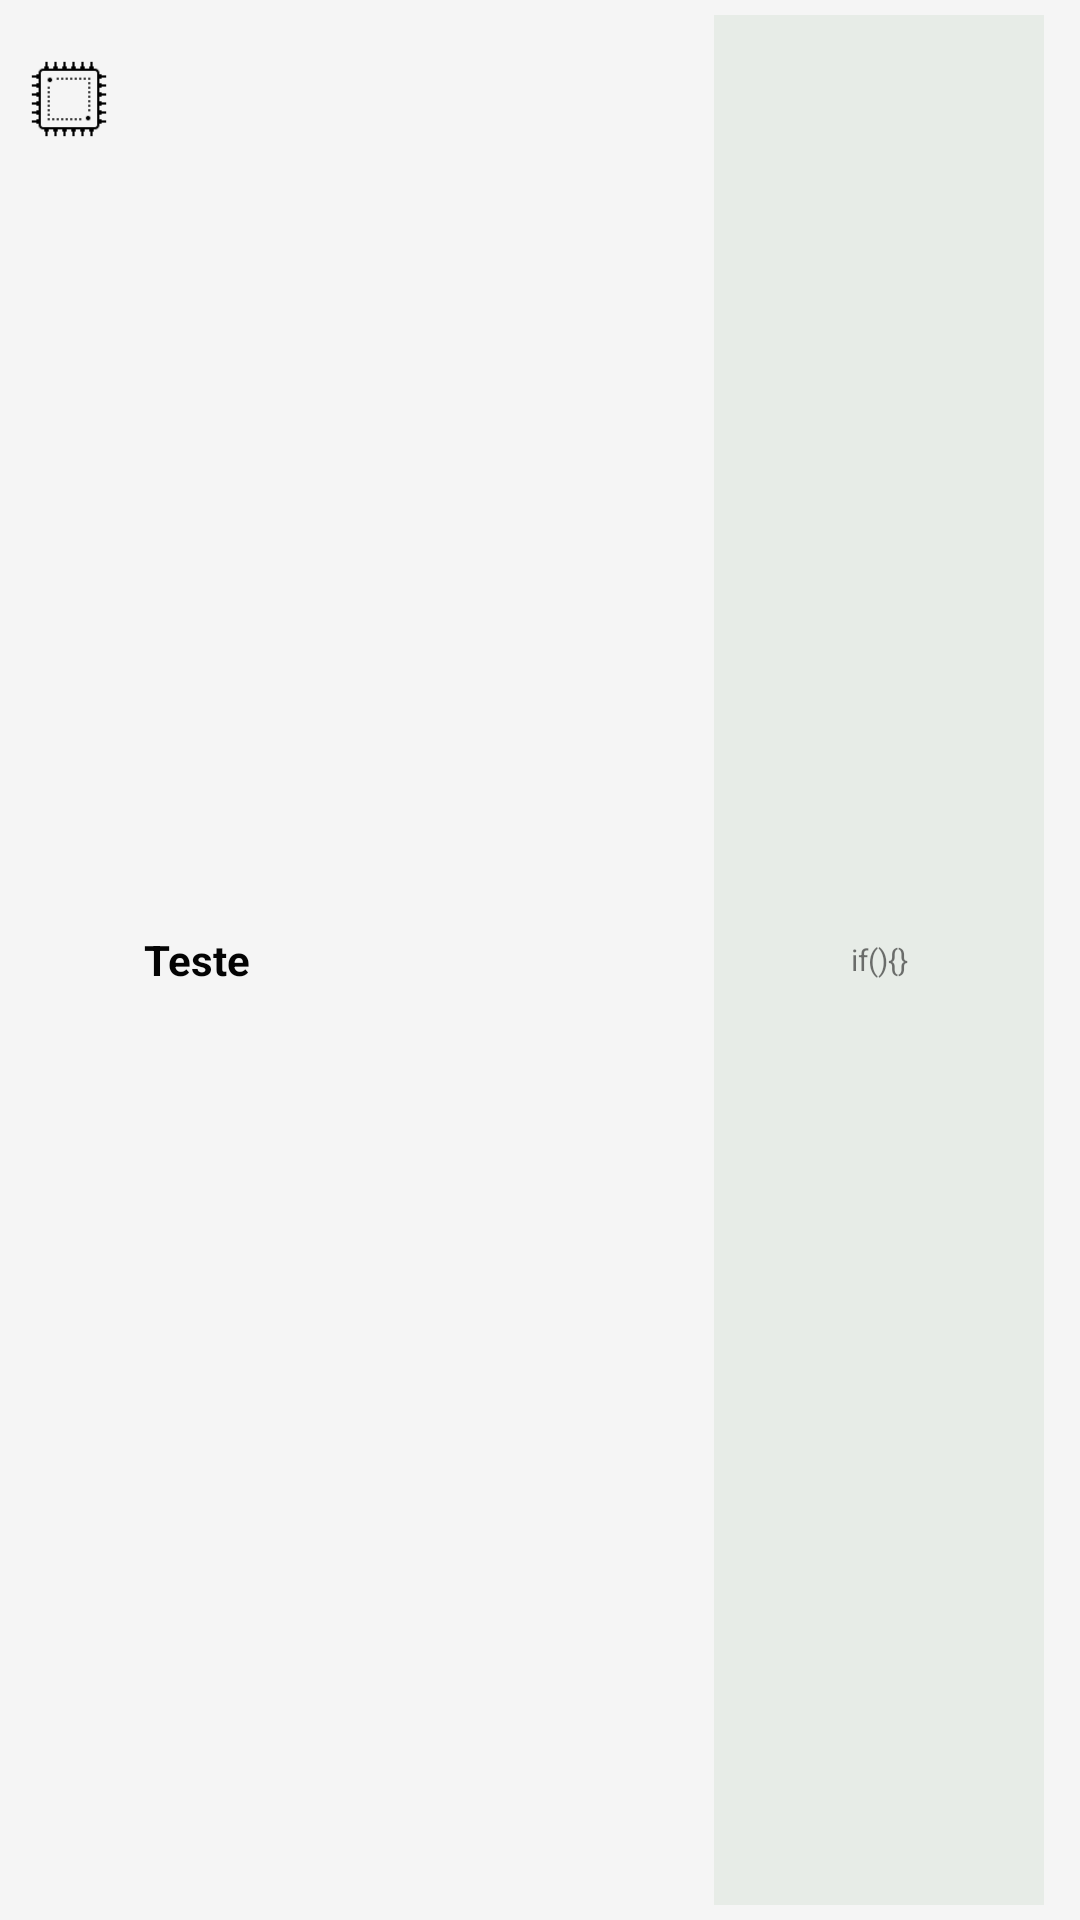

Icon click points for this 1080 x 1920 phone screenshot, format [x,y]:
processador: [69,99]
